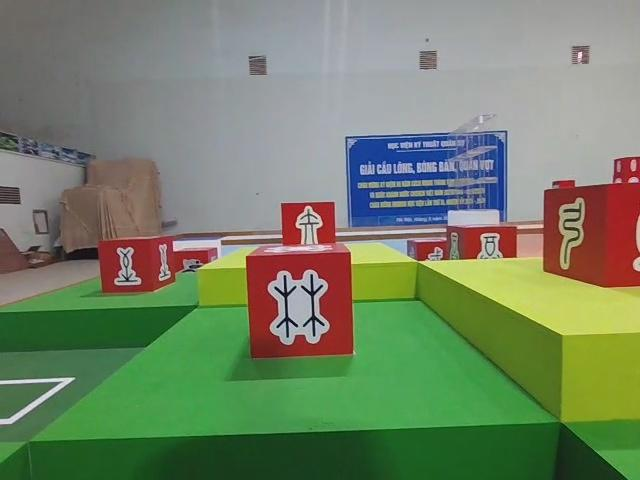R1: (173, 244, 220, 277)
R2 Fake: (541, 179, 640, 289), (279, 199, 338, 251)
R2 Real: (244, 241, 355, 359), (95, 233, 178, 296), (443, 222, 519, 266)
